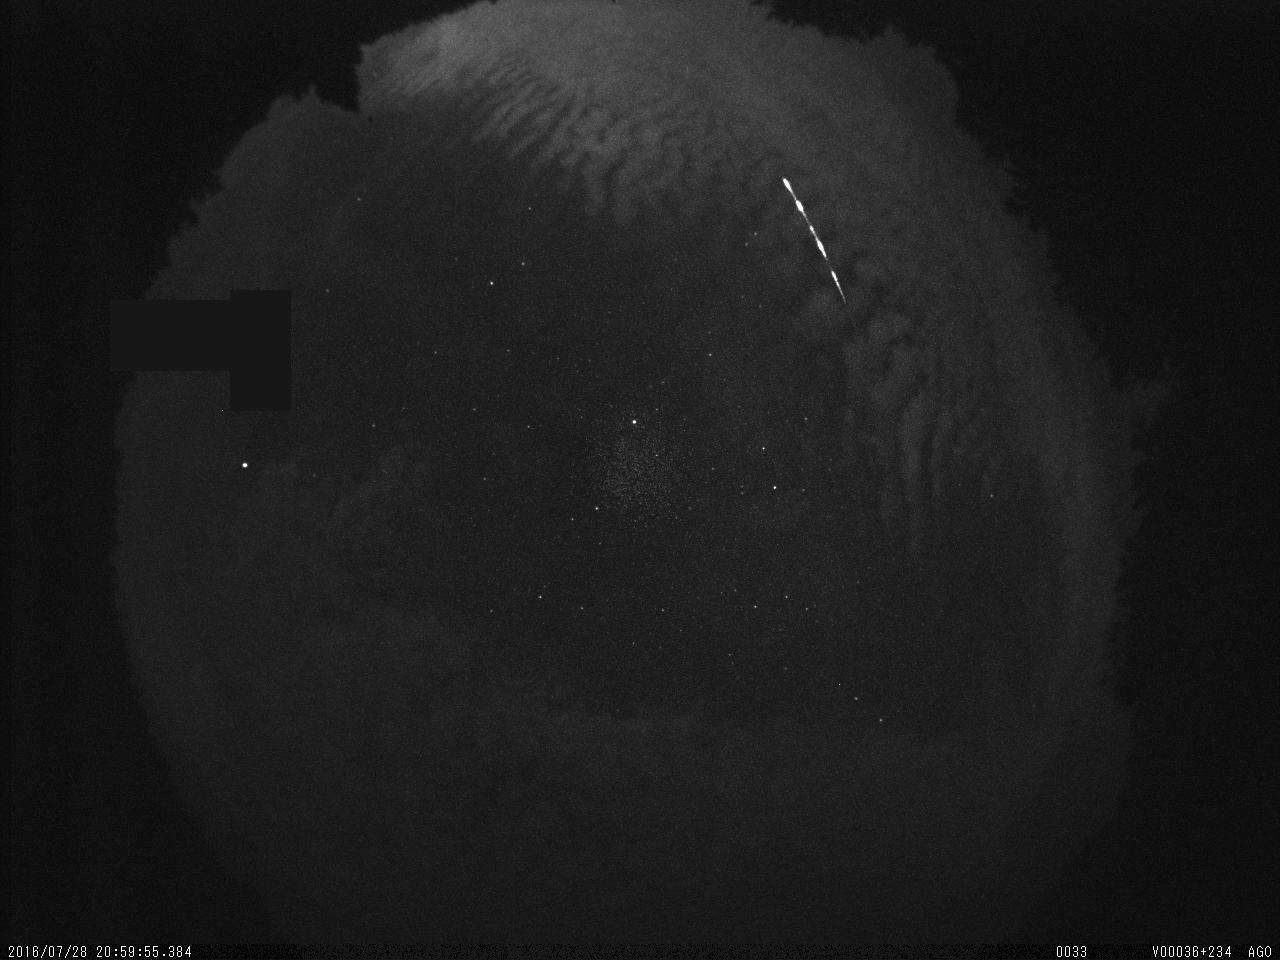Meteor: (775, 170, 851, 314)
